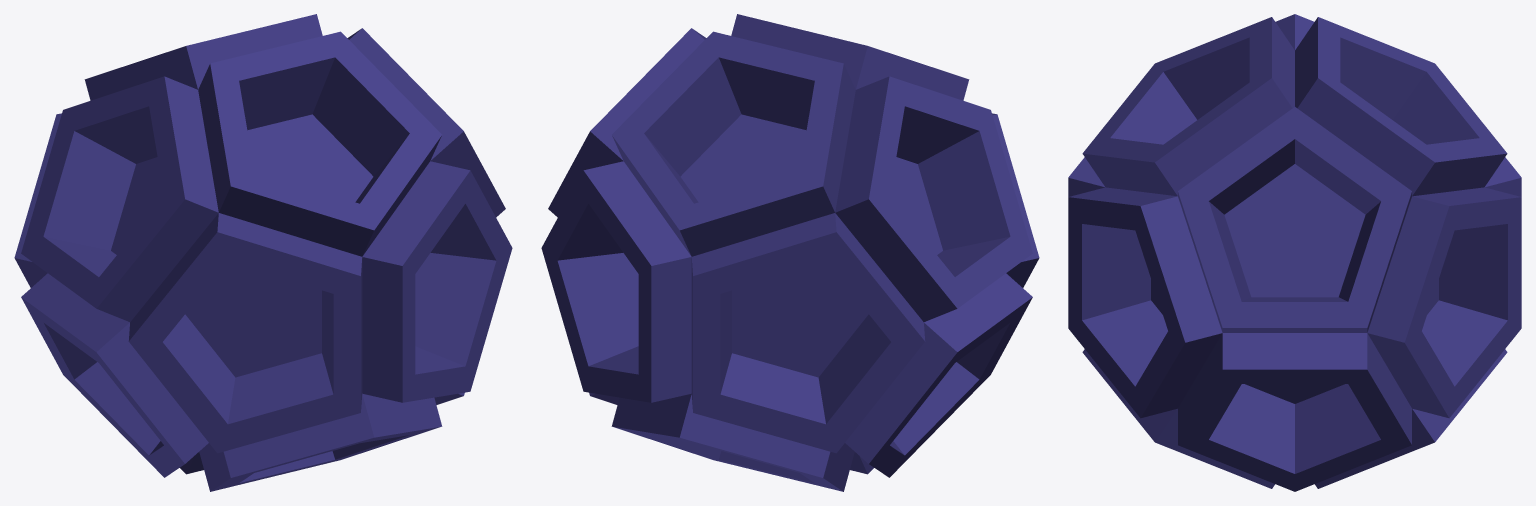
File: core.glb
3 renders of one model, left to right at view 1: azimuth 30°, elevation 25°; view 2: azimuth 150°, elevation 25°; view 3: azimuth 270°, elevation 25°, orthographic. The views are drawn at different scales.
Parts seen in each view (by area): view 1: core.003; view 2: core.003; view 3: core.003.
Boxes of the visible parts, x1,y1,x2,y2 form: core.003: (14, 14, 512, 491); core.003: (541, 14, 1039, 491); core.003: (1068, 14, 1521, 491).
Bounding box in the file's own units: 5.61 × 5.61 × 5.61.
